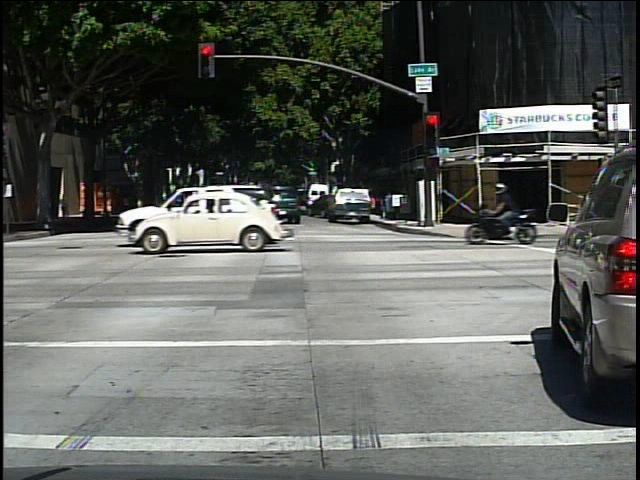person: (504, 174, 539, 232), (60, 191, 71, 223)
